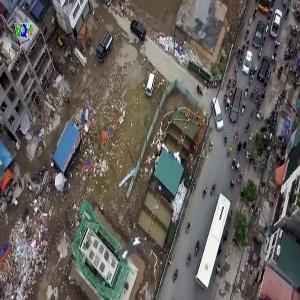drone: (87, 207, 173, 293)
